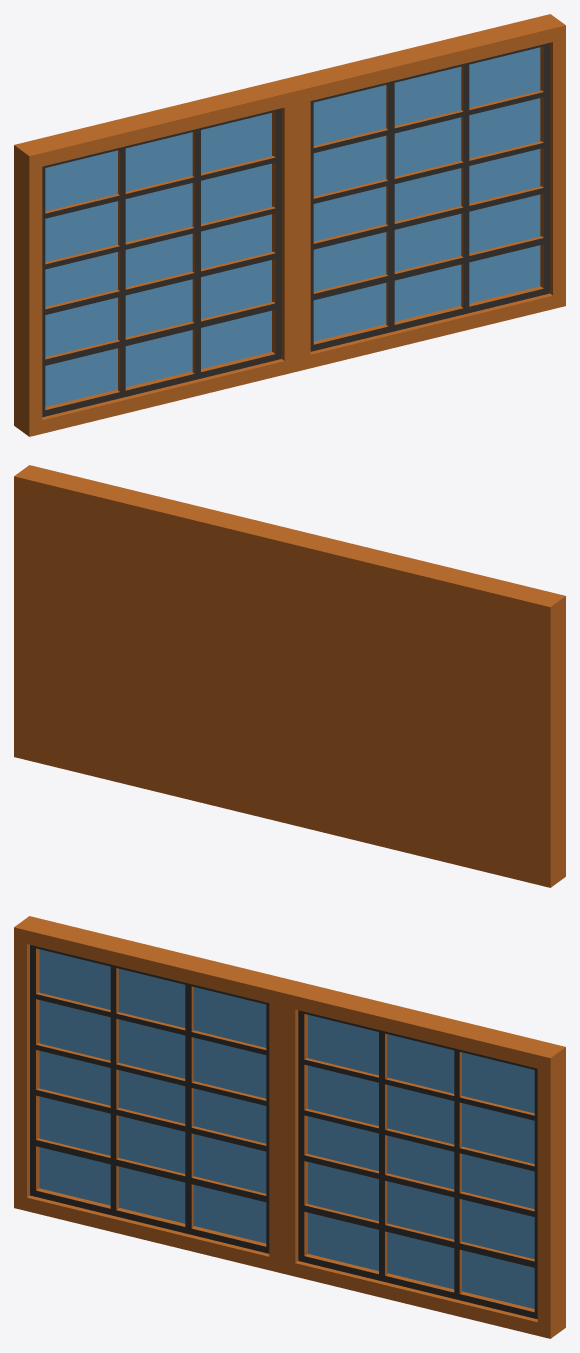
File: FinestraEsterno.fbx
3 views of the same model, one above another, from view 1: azimuth 30°, elevation 25°; view 2: azimuth 150°, elevation 25°; view 3: azimuth 330°, elevation 25° (orthographic).
Parts seen in each view (by area): view 1: FinestraEsterno; view 2: FinestraEsterno; view 3: FinestraEsterno.
Boxes of the visible parts, box(x1,y1,x2,y2) form: FinestraEsterno: box(14, 14, 565, 436); FinestraEsterno: box(14, 465, 565, 887); FinestraEsterno: box(14, 916, 565, 1338).
Bounding box in the file's own units: 400 × 200 × 19.97.
